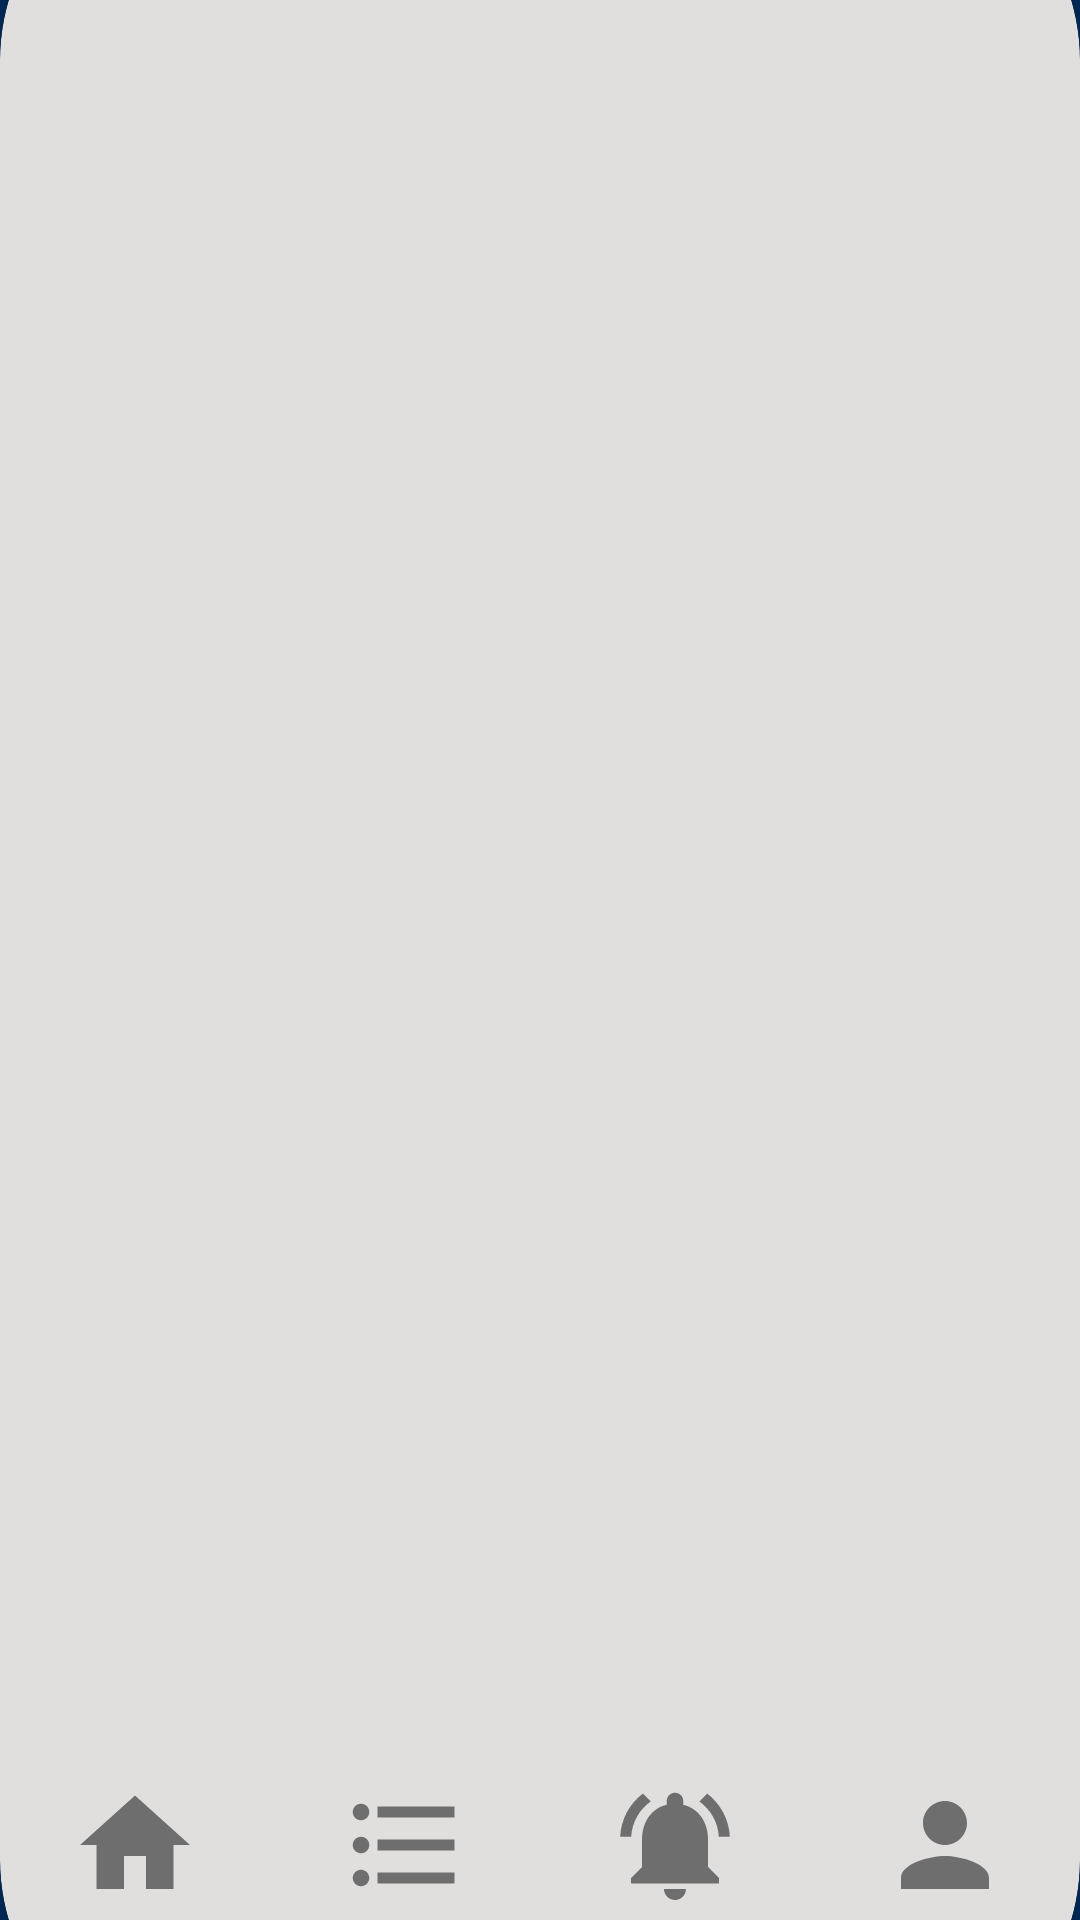

Icon bounding boxes for this 1080w x 1920h phone screenshot, format box=[x1, y1, x2, y2]:
home: box=[0, 1796, 190, 1920]
list: box=[352, 1803, 455, 1887]
notifications: box=[620, 1792, 730, 1900]
